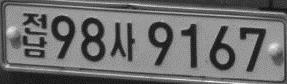1: (177, 23, 204, 68)
6: (208, 24, 235, 71)
7: (238, 26, 267, 72)
8: (79, 16, 106, 62)
9: (146, 20, 173, 66), (49, 14, 75, 60)
사: (109, 21, 135, 61)
전남_V: (21, 12, 48, 59)
